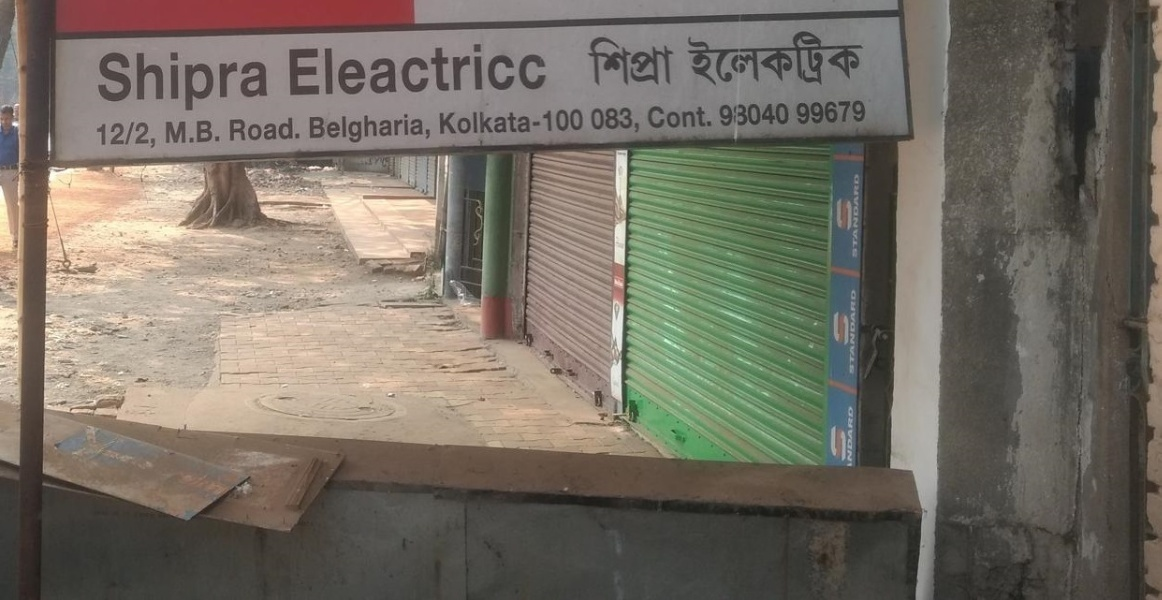text: (849, 291, 864, 379), (850, 172, 864, 259), (97, 44, 112, 115), (113, 44, 128, 115), (129, 44, 144, 115), (145, 44, 160, 115), (161, 44, 176, 115), (177, 44, 192, 115), (193, 44, 208, 115), (209, 44, 224, 115), (225, 44, 240, 115), (241, 44, 256, 115), (257, 44, 272, 115), (689, 28, 704, 90), (705, 28, 720, 90), (721, 28, 736, 90), (737, 28, 752, 90), (753, 28, 768, 90), (769, 28, 784, 90), (785, 28, 800, 90), (801, 28, 816, 90), (817, 28, 832, 90), (833, 28, 848, 90), (849, 28, 864, 90), (289, 39, 304, 99), (305, 39, 320, 99), (321, 39, 336, 99), (337, 39, 352, 99), (353, 39, 368, 99), (369, 39, 384, 99), (385, 39, 400, 99), (401, 39, 416, 99), (417, 39, 432, 99), (433, 39, 448, 99), (449, 39, 464, 99), (465, 39, 480, 99), (481, 39, 496, 99), (497, 39, 512, 99), (513, 39, 528, 99), (529, 39, 544, 99), (593, 35, 608, 88), (609, 35, 624, 88), (625, 35, 640, 88), (641, 35, 656, 88), (657, 35, 672, 88), (321, 112, 336, 146), (337, 112, 352, 146), (353, 112, 368, 146), (369, 112, 384, 146), (385, 112, 400, 146), (401, 112, 416, 146), (417, 112, 432, 146), (273, 44, 280, 115), (593, 105, 608, 135), (609, 105, 624, 135), (625, 105, 640, 135), (449, 109, 464, 138), (465, 109, 480, 138), (481, 109, 496, 138), (497, 109, 512, 138), (513, 109, 528, 138), (529, 109, 544, 138), (177, 118, 192, 146), (193, 118, 208, 146), (545, 106, 560, 134), (561, 106, 576, 134), (721, 99, 736, 126), (737, 99, 752, 126), (753, 99, 768, 126), (769, 99, 784, 126), (785, 99, 800, 126), (801, 99, 816, 126), (817, 99, 832, 126), (833, 99, 848, 126), (849, 99, 864, 126), (241, 116, 256, 142), (257, 116, 272, 142), (273, 116, 288, 142), (289, 116, 304, 142), (97, 122, 112, 147), (113, 122, 128, 147), (129, 122, 144, 147), (657, 106, 672, 131), (673, 106, 688, 131), (689, 106, 704, 131), (309, 112, 320, 146), (209, 118, 222, 146), (145, 122, 159, 147), (437, 109, 448, 138), (228, 116, 240, 142), (165, 118, 176, 146), (849, 408, 854, 469), (283, 39, 288, 99), (577, 106, 587, 134), (646, 106, 656, 131), (705, 106, 715, 131), (673, 35, 677, 88), (433, 112, 439, 146), (865, 28, 868, 90), (589, 35, 592, 88), (545, 39, 547, 99), (589, 105, 592, 135), (95, 44, 96, 115), (865, 99, 867, 126), (641, 105, 642, 135), (543, 106, 544, 134)
